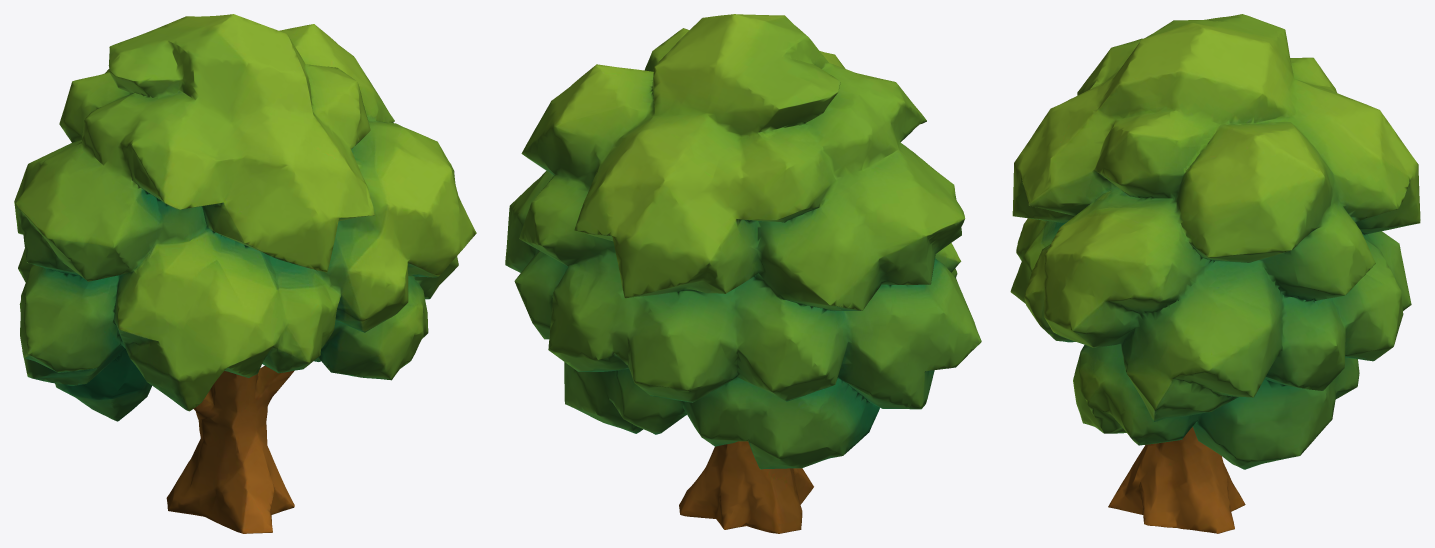
Rendered from tree_deciduous.glb.
3 views of the same model, side by side, from view 1: azimuth 30°, elevation 25°; view 2: azimuth 150°, elevation 25°; view 3: azimuth 270°, elevation 25° (orthographic). The views are drawn at different scales.
Parts seen in each view (by area): view 1: tripo_node_3bd8a7fa-a5db-4d1c-9e27-bb112e2c9292; view 2: tripo_node_3bd8a7fa-a5db-4d1c-9e27-bb112e2c9292; view 3: tripo_node_3bd8a7fa-a5db-4d1c-9e27-bb112e2c9292.
Part boxes in pixels (box(x1,y1,x2,y2)): tripo_node_3bd8a7fa-a5db-4d1c-9e27-bb112e2c9292: box(14, 14, 476, 533); tripo_node_3bd8a7fa-a5db-4d1c-9e27-bb112e2c9292: box(505, 14, 981, 533); tripo_node_3bd8a7fa-a5db-4d1c-9e27-bb112e2c9292: box(1010, 14, 1420, 533).
Bounding box in the file's own units: 0.9473 × 1 × 0.7676.
1 material, 1 textured.
